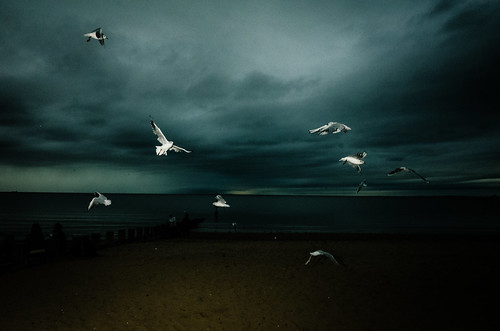animal: (144, 112, 193, 166), (385, 160, 433, 190), (309, 113, 355, 142), (81, 18, 117, 51), (333, 143, 375, 169), (302, 247, 345, 271), (78, 179, 110, 210), (209, 190, 237, 214), (352, 176, 375, 197)
beach: (1, 240, 494, 331)
sea: (4, 184, 500, 235)
sky: (1, 1, 492, 183)
